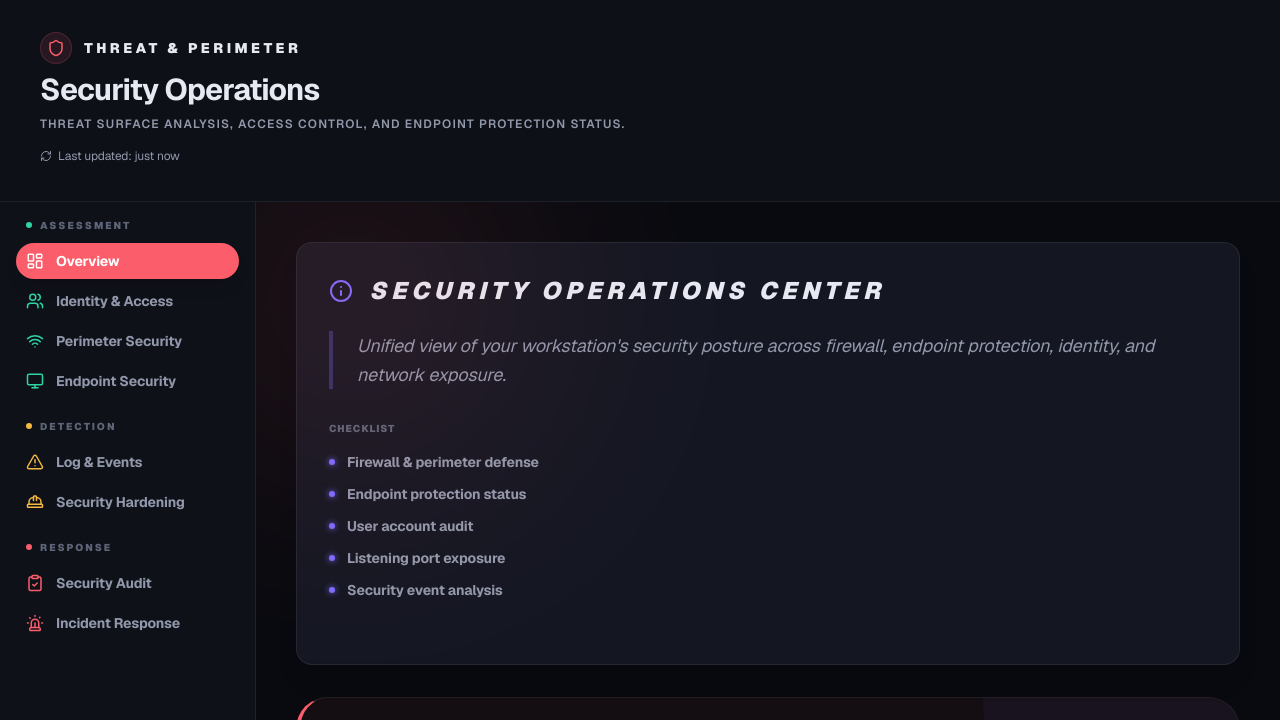
Test: SecOps Page › navigates to Identity & Access sidebar category
The width and height of the screenshot is (1280, 720).
Step 1. Click the button "Identity & Access" → (128, 300), box [16,282,239,318]
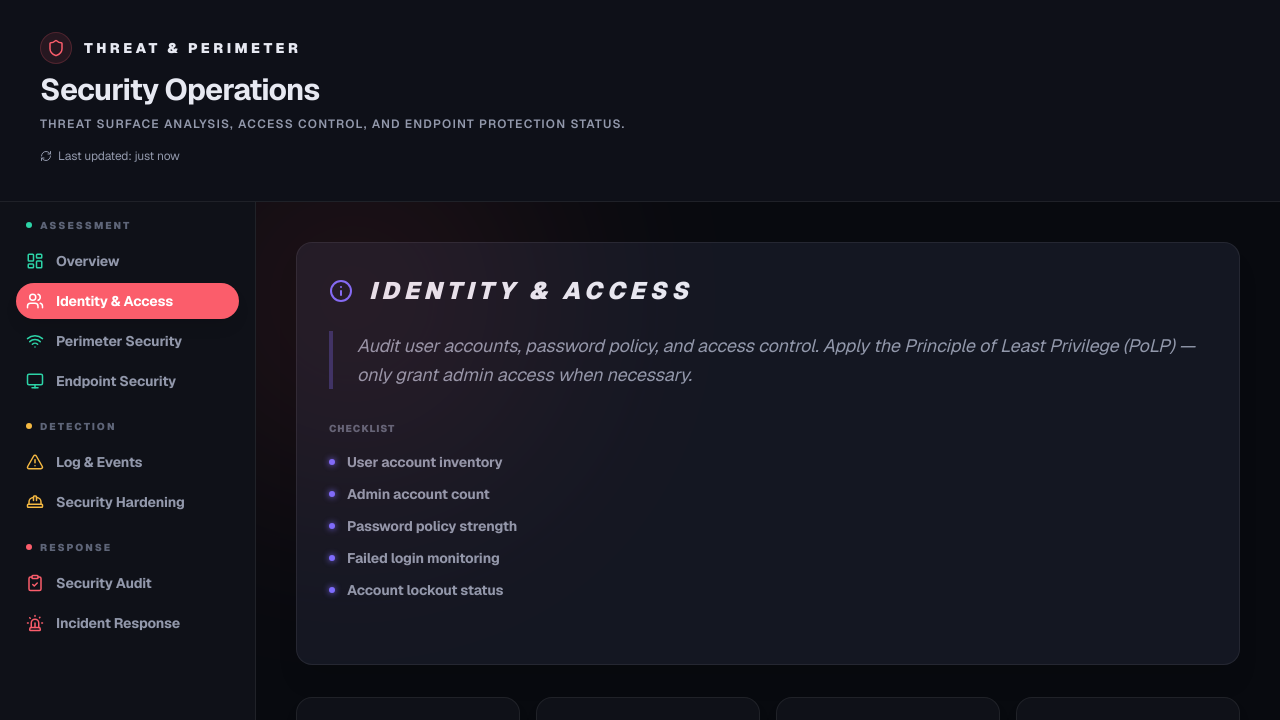
Expected: the heading "Identity & Access" is shown, [369,274,693,306]
